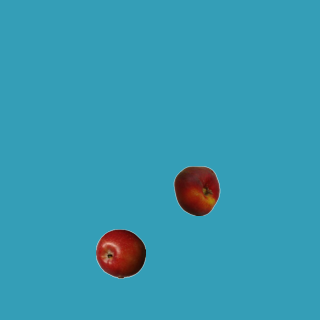Apple Braeburn: (95, 228, 145, 278)
Nectarine Flat: (171, 165, 221, 215)
